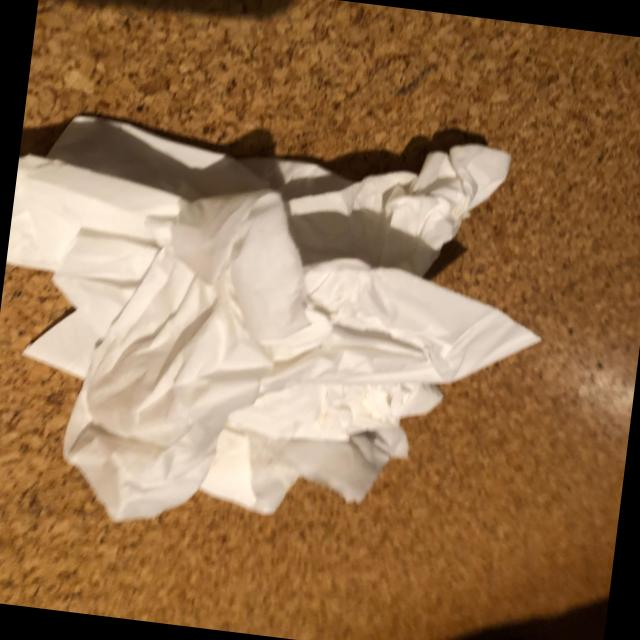organic waste: (49, 172, 554, 574), (0, 87, 514, 428)
